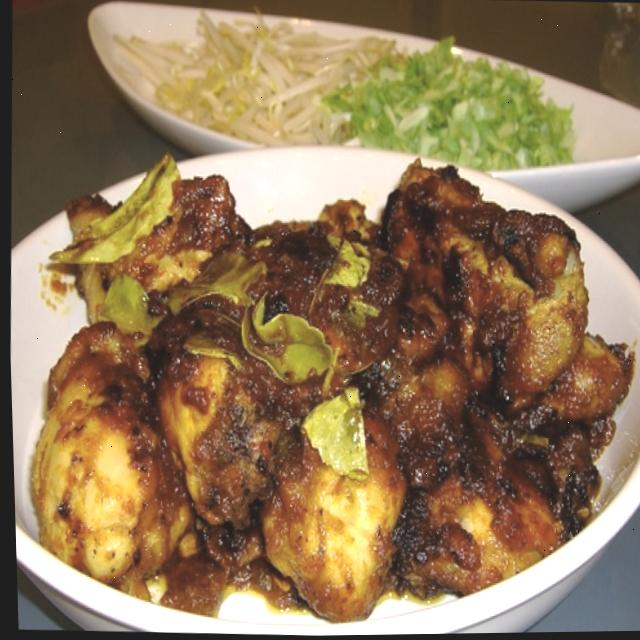鸡肉料理 含炸鸡: (3, 129, 640, 640)
